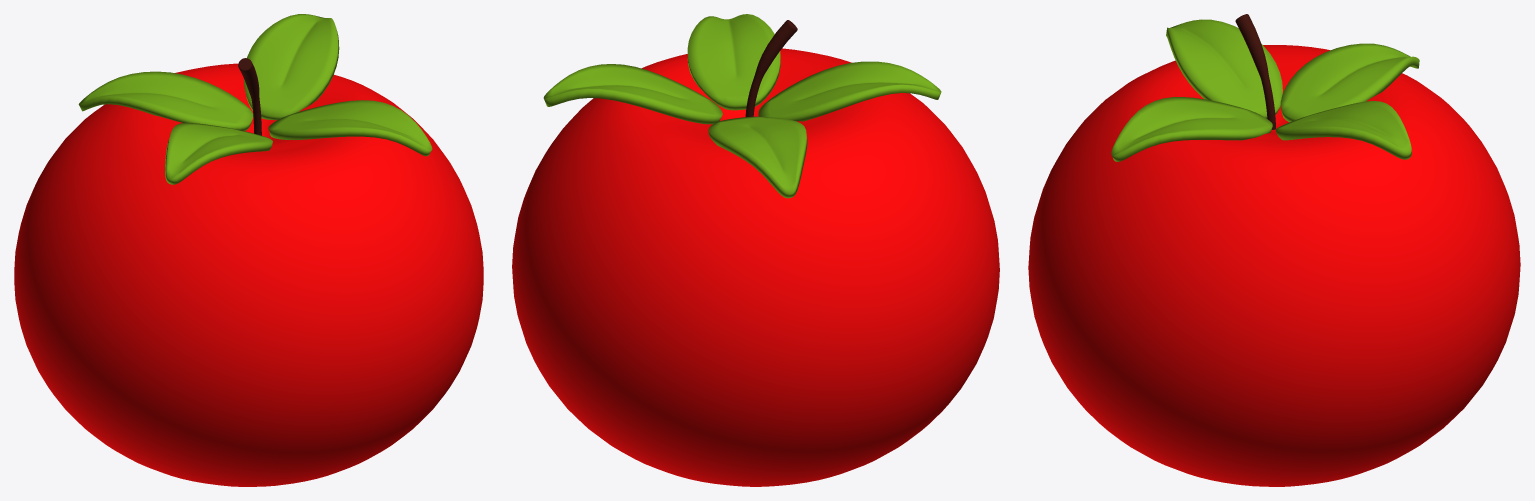
The model's file is little_tomato.fbx.
3 views of the same model, side by side, from view 1: azimuth 30°, elevation 25°; view 2: azimuth 150°, elevation 25°; view 3: azimuth 270°, elevation 25° (orthographic). The views are drawn at different scales.
Visible parts, largest first — view 1: little_tomato; view 2: little_tomato; view 3: little_tomato.
Part boxes in pixels (box(x1,y1,x2,y2)): little_tomato: box(14, 14, 483, 486); little_tomato: box(512, 14, 999, 486); little_tomato: box(1028, 14, 1520, 486).
Size of the model in its own units: 100 by 95.43 by 100.
